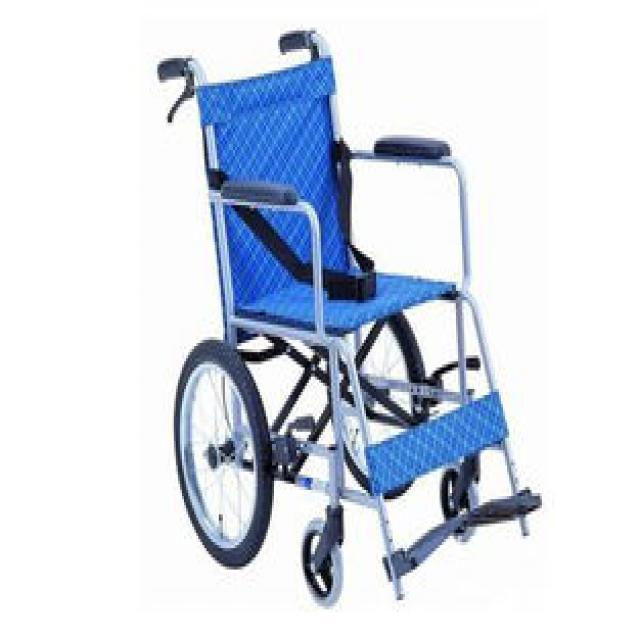wheelchair: (147, 21, 544, 631)
